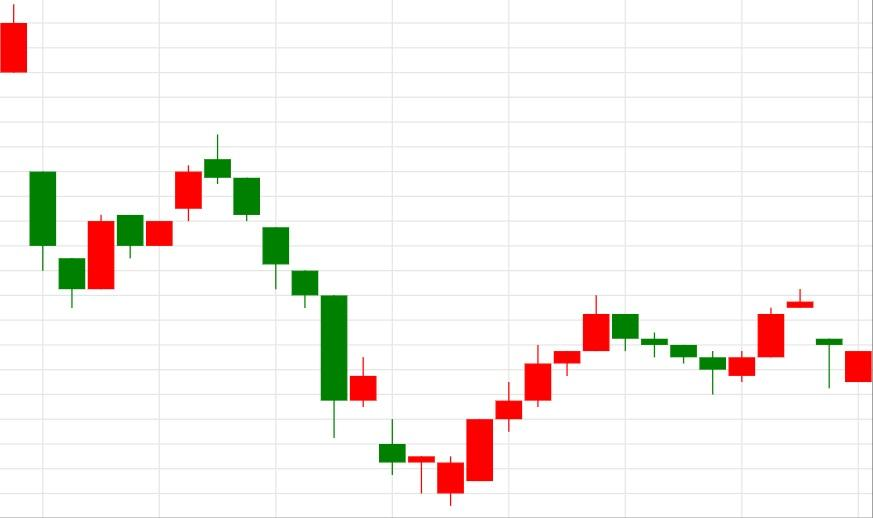three_black_crows_fall: (58, 134, 290, 309)
